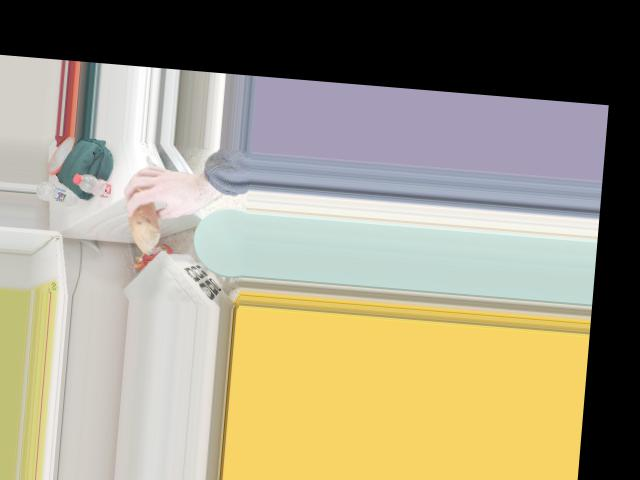sweet_potato: (126, 180, 163, 251)
